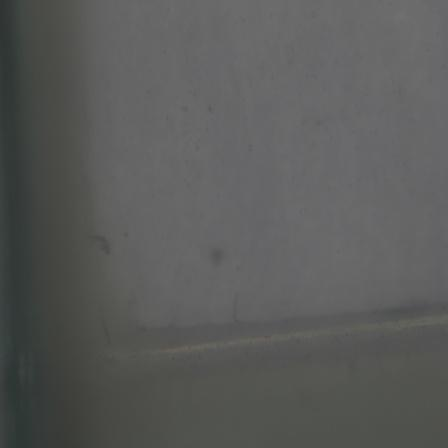Jentik-Nyamuk: (83, 228, 113, 259)
